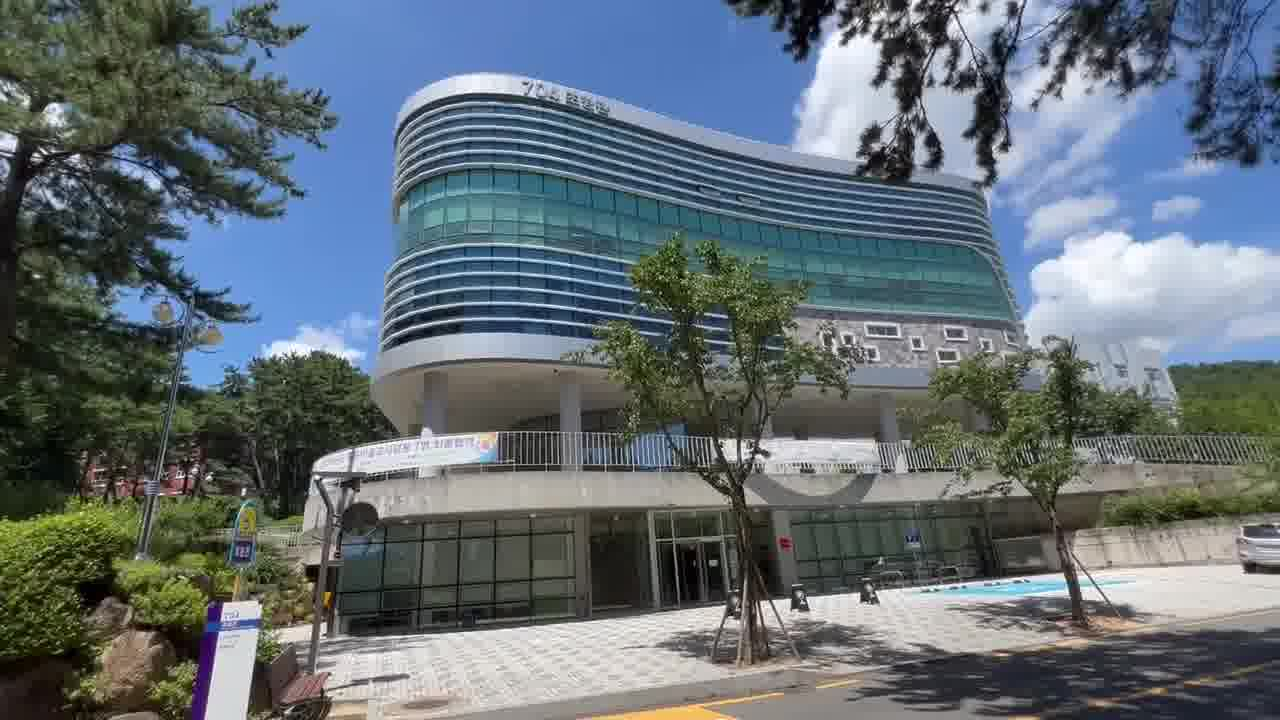low: (342, 61, 1039, 370)
